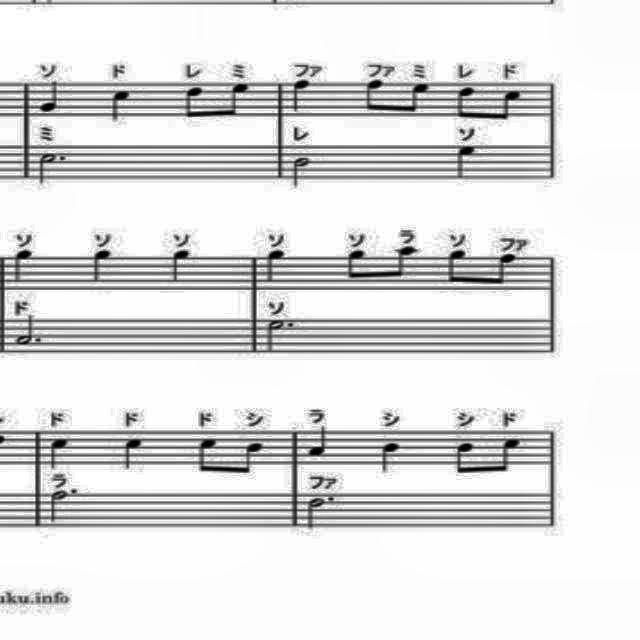Eighth-note: (176, 79, 212, 125), (398, 80, 438, 120), (236, 436, 270, 480), (356, 75, 390, 119), (484, 251, 522, 289), (493, 431, 522, 479), (222, 77, 252, 123), (388, 243, 424, 280), (496, 84, 526, 128), (338, 248, 374, 284), (194, 432, 222, 478), (454, 82, 482, 126), (443, 247, 472, 289), (448, 437, 477, 479)
Half-dot: (300, 490, 340, 538), (42, 486, 82, 530), (258, 316, 298, 360), (36, 150, 72, 188), (14, 312, 46, 352)
Half-note: (288, 152, 320, 192)
Quarter-note: (8, 246, 40, 286), (108, 87, 140, 125), (168, 246, 196, 288), (36, 78, 64, 119), (91, 244, 117, 288), (304, 422, 332, 462), (452, 144, 481, 182), (286, 76, 314, 114), (119, 432, 145, 472), (46, 434, 70, 476), (262, 247, 288, 285), (377, 438, 403, 476)
